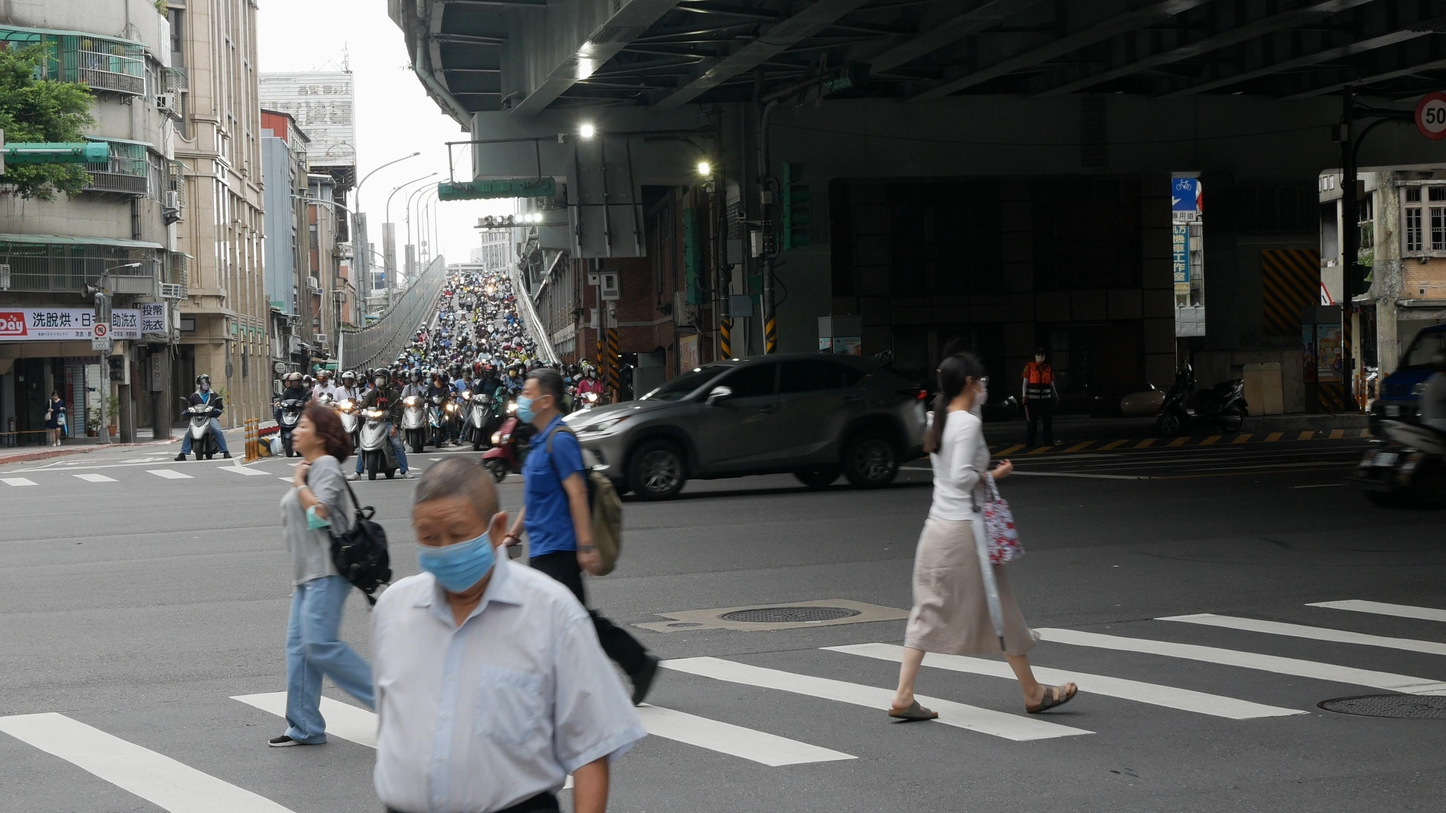driver: (346, 367, 415, 481), (174, 374, 233, 461), (458, 364, 507, 451), (394, 367, 434, 453), (273, 372, 312, 457), (326, 371, 365, 456), (424, 369, 459, 449), (570, 360, 612, 412)
helmet: (372, 368, 391, 390), (288, 372, 303, 390), (341, 371, 355, 390), (408, 368, 422, 385), (316, 370, 329, 388), (449, 362, 461, 381), (584, 364, 597, 380), (436, 369, 449, 385), (507, 363, 518, 381), (579, 360, 593, 374), (484, 364, 496, 380), (280, 373, 292, 389), (460, 364, 472, 379), (355, 374, 367, 388), (302, 374, 312, 388)
no-helmet: (410, 455, 508, 596), (291, 405, 351, 465), (930, 353, 990, 412), (515, 367, 564, 425), (52, 390, 59, 400)
